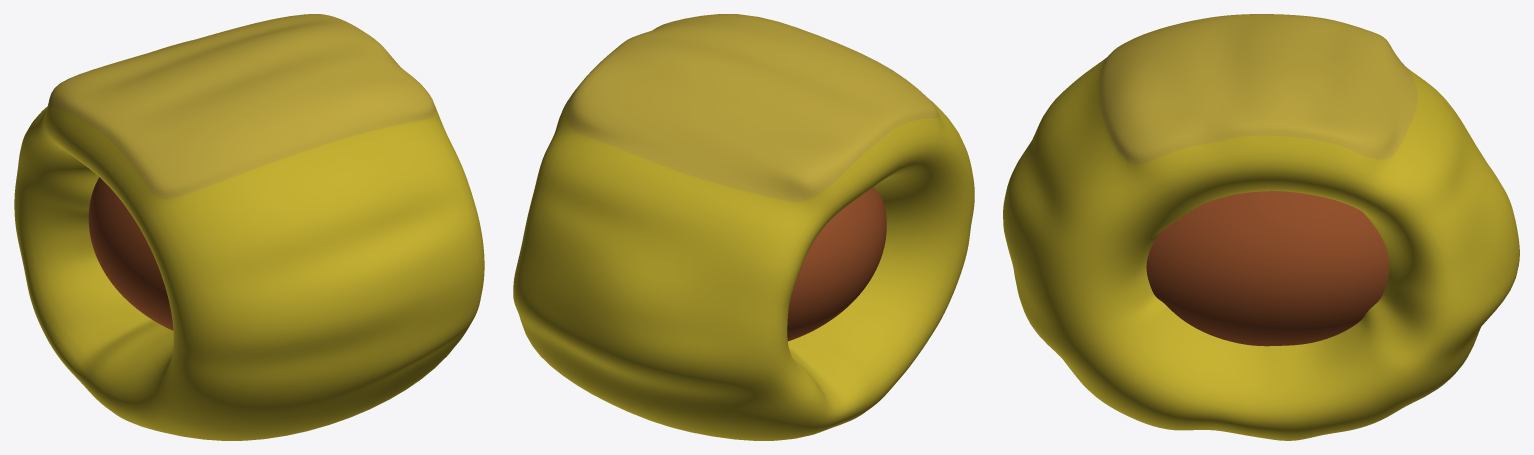
The model's file is tartnenas.fbx.
3 views of the same model, side by side, from view 1: azimuth 30°, elevation 25°; view 2: azimuth 150°, elevation 25°; view 3: azimuth 270°, elevation 25° (orthographic). The views are drawn at different scales.
Parts seen in each view (by area): view 1: Sphere; view 2: Sphere; view 3: Sphere.
Boxes of the visible parts, x1,y1,x2,y2 form: Sphere: [14, 14, 484, 440]; Sphere: [513, 14, 974, 440]; Sphere: [1003, 14, 1519, 440].
Size of the model in its own units: 290 by 309 by 405.
